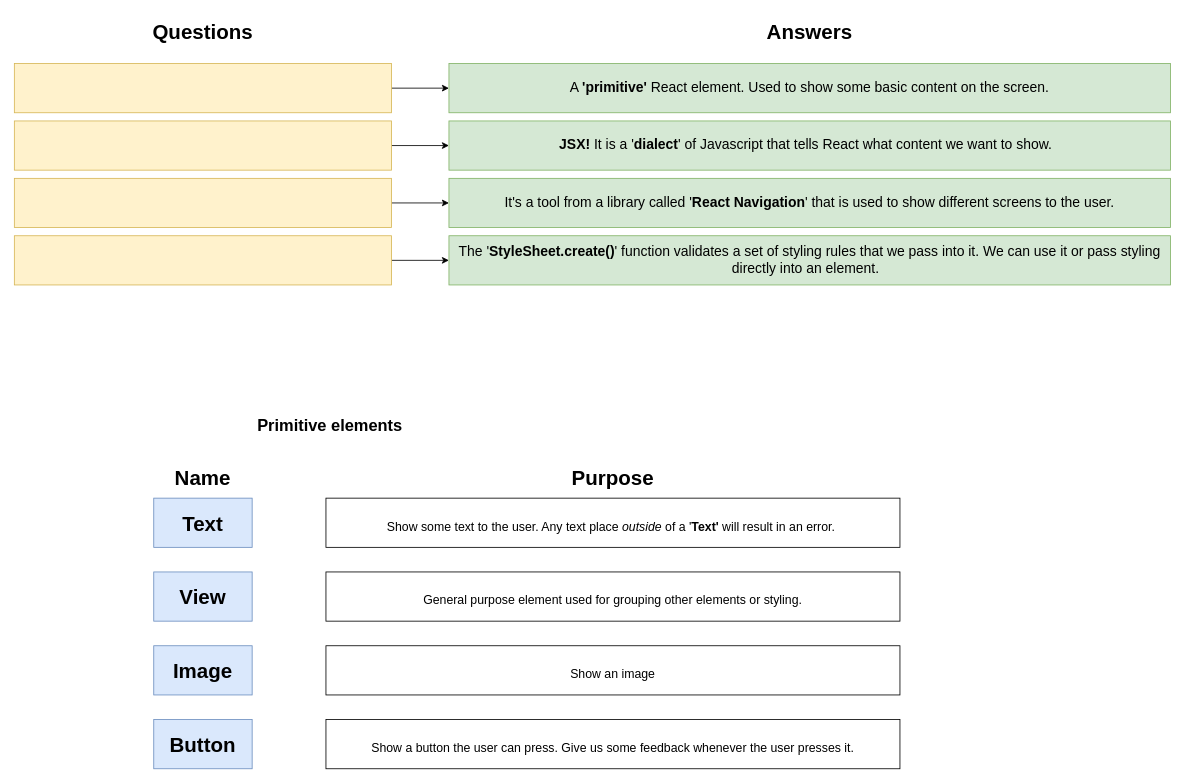
This 1185x783 diagram has some shape labels left out. Each missing label, with the box of its shape:
What is that 'appNavigator' in App.js file?: (14, 178, 392, 228)
What is that 'HTML' looling stuff?: (14, 120, 392, 170)
What is that 'styles' thing work?: (14, 235, 392, 285)
What is that 'Text' thing?: (14, 63, 392, 113)
